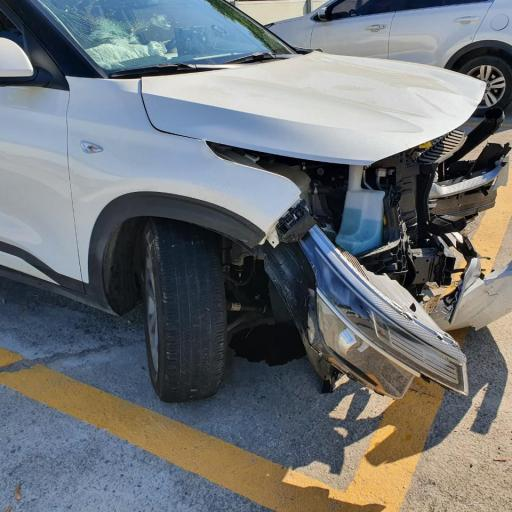broken: (224, 129, 507, 293)
